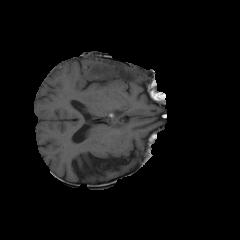glioma: (84, 56, 160, 100)
